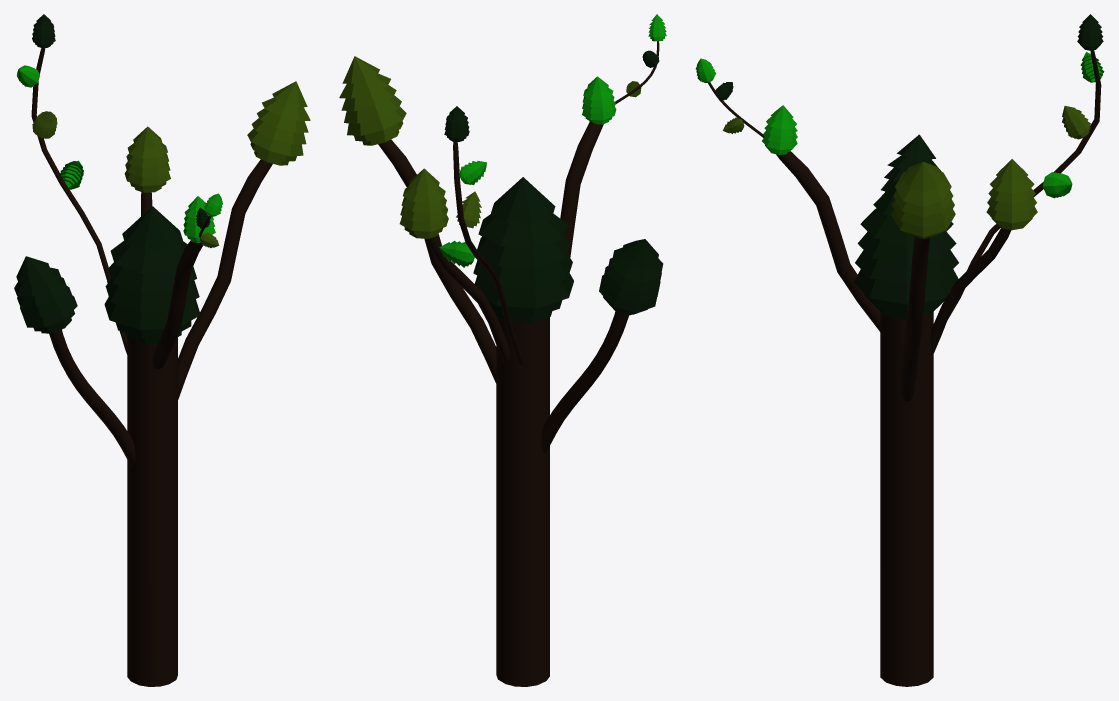
The model's file is BigTrees.obj.
3 views of the same model, side by side, from view 1: azimuth 30°, elevation 25°; view 2: azimuth 150°, elevation 25°; view 3: azimuth 270°, elevation 25° (orthographic). The views are drawn at different scales.
Parts seen in each view (by area): view 1: pCylinder1 group1, group1 pCone1, group1 pCone3, group1 pCylinder2, group1 pasted__pCone1, group1 pCone4, group1 pasted__pasted__pCylinder2, group1 pasted__pCylinder2, group1 pCylinder3, group1 pCone8, group1 pCone2, group1 pCone6 (+1 smaller); view 2: pCylinder1 group1, group1 pCone1, group1 pCone3, group1 pasted__pCone1, group1 pCylinder2, group1 pCone4, group1 pasted__pasted__pCylinder2, group1 pasted__pCylinder2, group1 pasted__pCylinder4, group1 pCylinder3, group1 pCone8, group1 pCone2 (+3 smaller); view 3: pCylinder1 group1, group1 pCone1, group1 pCone3, group1 pasted__pCylinder2, group1 pCylinder2, group1 pCone4, group1 pasted__pCylinder4, group1 pCylinder3, group1 pCone8, group1 pasted__pCone1, group1 pCone6, group1 pCone2 (+1 smaller).
Part boxes in pixels (x1,y1,x2,y2): pCylinder1 group1: [127, 337, 177, 686]; group1 pCone1: [104, 206, 200, 343]; group1 pCone3: [247, 81, 310, 165]; group1 pCylinder2: [178, 159, 272, 399]; group1 pasted__pCone1: [14, 256, 77, 333]; group1 pCone4: [124, 126, 170, 192]; group1 pasted__pasted__pCylinder2: [49, 329, 135, 466]; group1 pasted__pCylinder2: [152, 240, 202, 369]; group1 pCylinder3: [31, 48, 127, 354]; group1 pCone8: [183, 196, 215, 242]; group1 pCone2: [32, 14, 55, 48]; group1 pCone6: [32, 111, 57, 138]; pCylinder1 group1: [496, 316, 549, 686]; group1 pCone1: [473, 177, 573, 323]; group1 pCone3: [339, 56, 406, 145]; group1 pasted__pCone1: [599, 239, 663, 315]; group1 pCylinder2: [378, 139, 496, 383]; group1 pCone4: [399, 168, 448, 238]; group1 pasted__pasted__pCylinder2: [541, 311, 628, 452]; group1 pasted__pCylinder2: [560, 121, 603, 257]; group1 pasted__pCylinder4: [426, 236, 509, 364]; group1 pCylinder3: [453, 142, 523, 364]; group1 pCone8: [582, 76, 616, 124]; group1 pCone2: [444, 106, 469, 141]; pCylinder1 group1: [880, 312, 933, 686]; group1 pCone1: [853, 178, 958, 319]; group1 pCone3: [891, 161, 955, 239]; group1 pasted__pCylinder2: [776, 151, 880, 331]; group1 pCylinder2: [900, 237, 930, 401]; group1 pCone4: [986, 159, 1037, 230]; group1 pasted__pCylinder4: [930, 228, 1011, 354]; group1 pCylinder3: [948, 50, 1101, 318]; group1 pCone8: [762, 105, 797, 154]; group1 pasted__pCone1: [881, 134, 941, 192]; group1 pCone6: [1062, 106, 1090, 139]; group1 pCone2: [1077, 14, 1103, 50].
Size of the model in its own units: 6.05 by 11.86 by 6.76.
